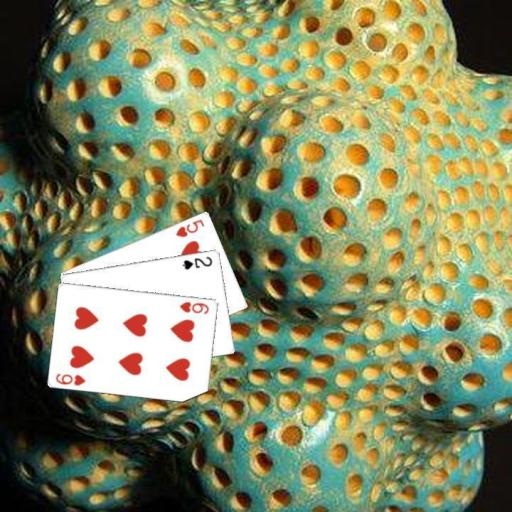card-corner: (173, 216, 206, 238), (179, 253, 214, 271), (176, 298, 210, 315), (52, 370, 86, 387)
